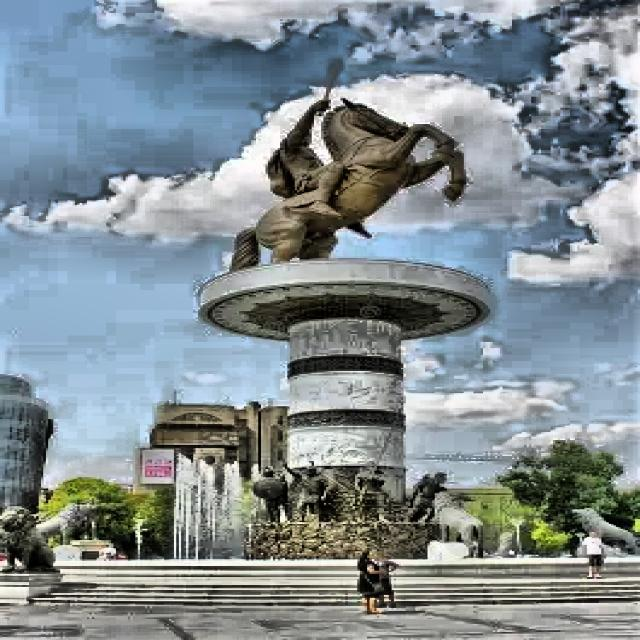alexander the great monument: (197, 54, 478, 556)
